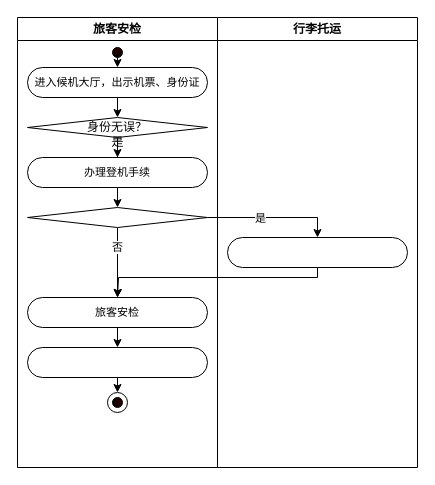
The diagram is 435 pixels wide and 485 high, and some of its shapes have lost their labels. Each missing label, with the box of its shape:
是否有行李？: (26, 206, 208, 228)
登机: (26, 346, 208, 378)
行李托运手续: (226, 236, 408, 268)
